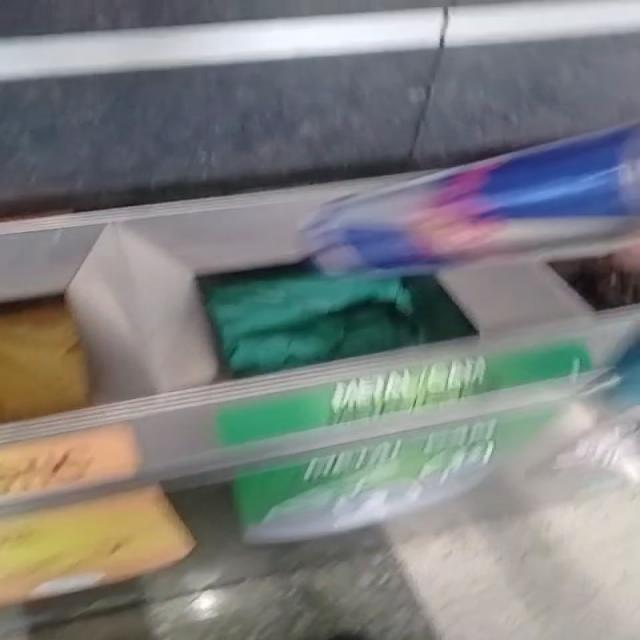bin: (1, 126, 640, 544)
metal: (303, 125, 640, 273)
